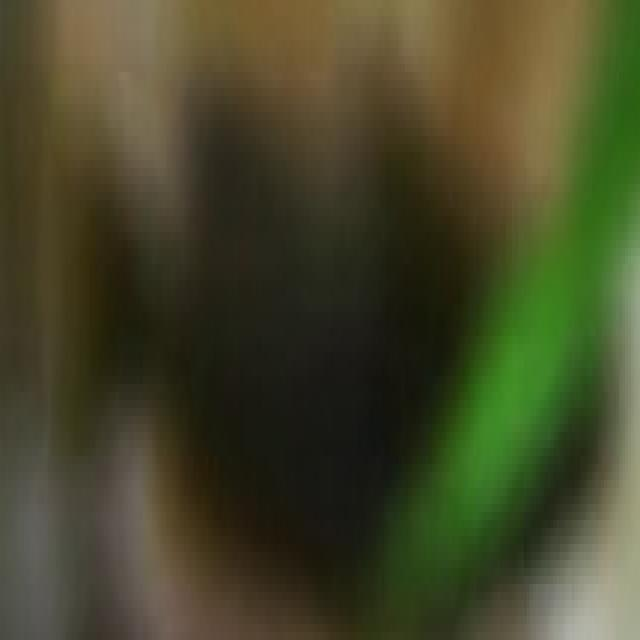fish: (3, 0, 640, 632)
